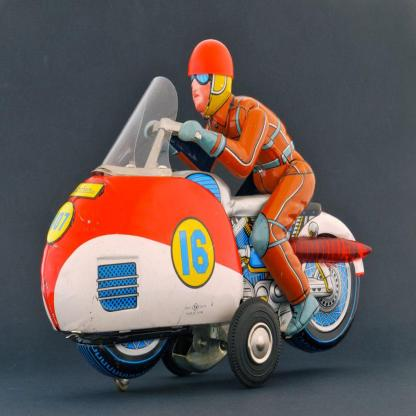Helmet: (186, 36, 238, 118)
